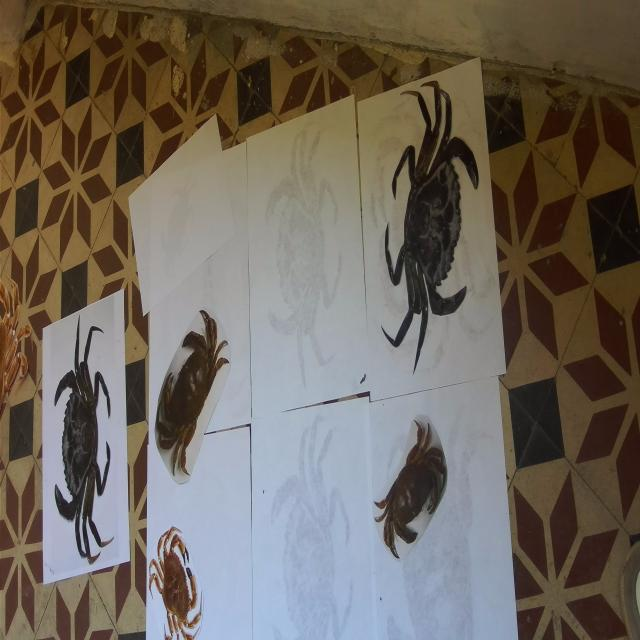European_Green_Crab: (372, 69, 488, 391), (50, 312, 115, 568)
